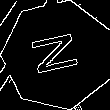N_E: (28, 30, 88, 80)
